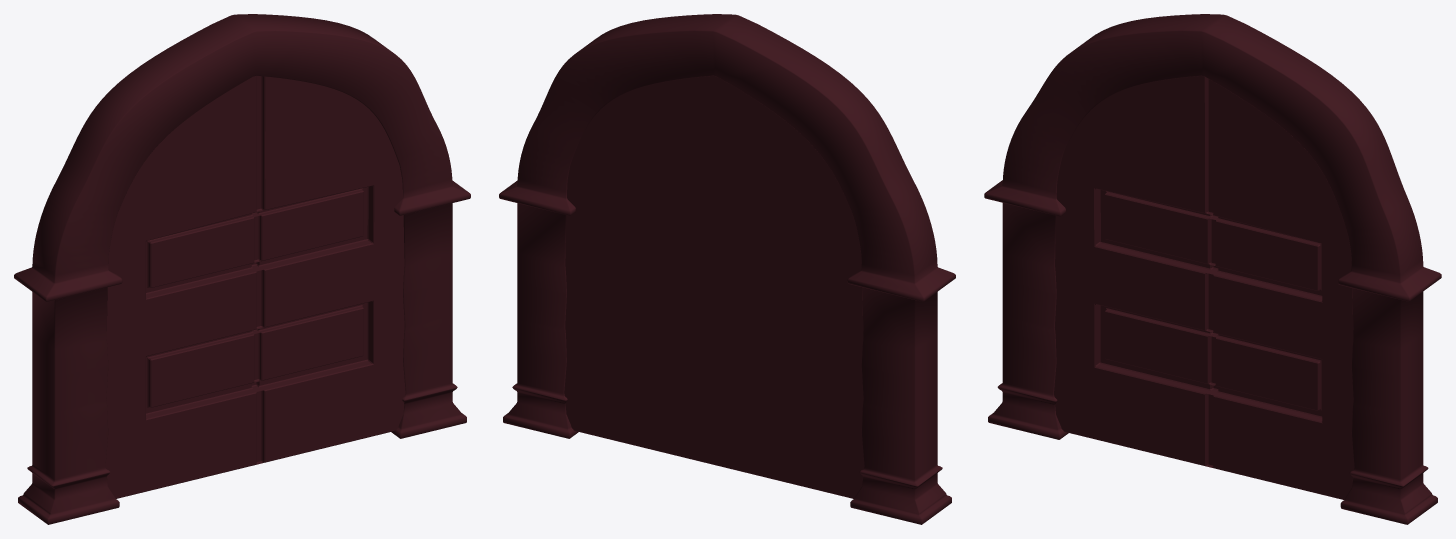
File: Door.fbx
3 views of the same model, side by side, from view 1: azimuth 30°, elevation 25°; view 2: azimuth 150°, elevation 25°; view 3: azimuth 330°, elevation 25° (orthographic).
Visible parts, largest first — view 1: Window.002; view 2: Window.002; view 3: Window.002.
Boxes of the visible parts, left/top/right/bottom form: Window.002: left=14, top=14, right=470, bottom=524; Window.002: left=499, top=14, right=955, bottom=524; Window.002: left=984, top=14, right=1441, bottom=524.
Size of the model in its own units: 170 by 168 by 22.57.
